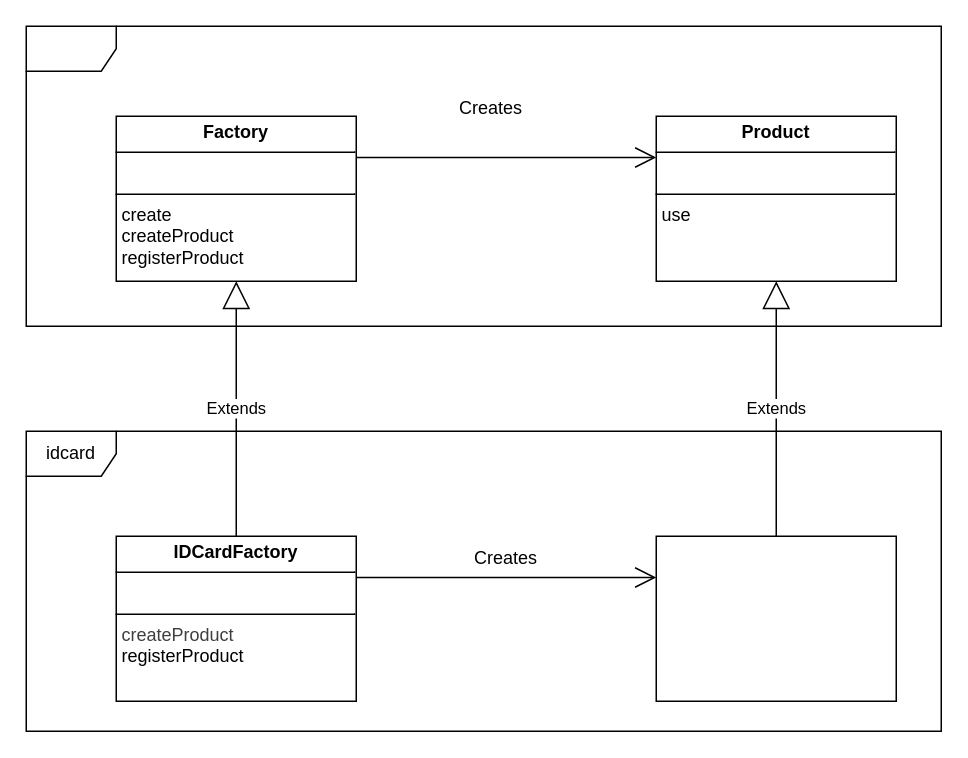
The diagram is 968 pixels wide and 758 high, and some of its shapes have lost their labels. Here are the shapes that lost their labels. From the top down, the centre of each, then its label:
the point at 483,175: framework
the point at 775,618: IDCard owner use getOwner
